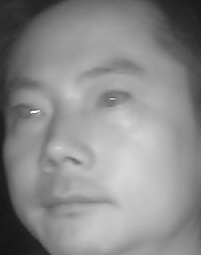eye: (10, 100, 50, 126), (95, 88, 136, 113)
mouth: (37, 182, 111, 222)
